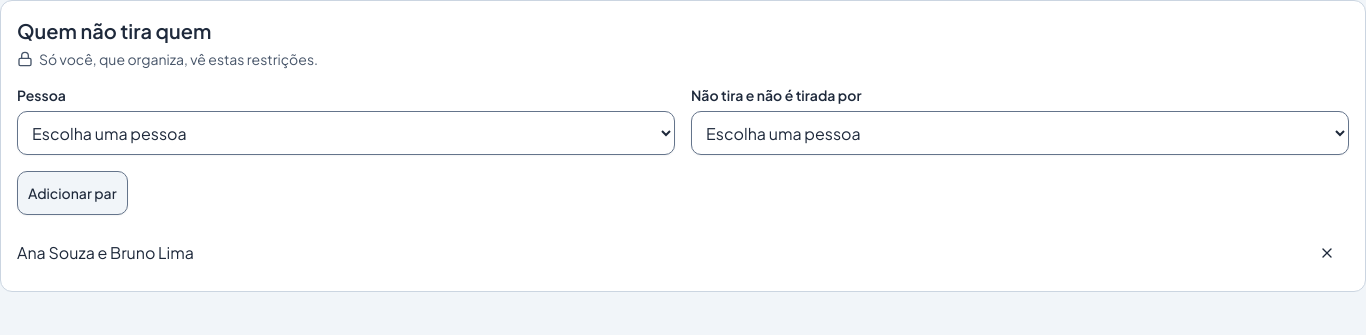
Test case: ExclusionEditor › mostra Escolha as duas pessoas do par. sem enviar
The image size is (1366, 335).
Select "Ana Souza" in the dropdown labelled "Pessoa" at {"x": 346, "y": 133}, box [17,111,675,155]
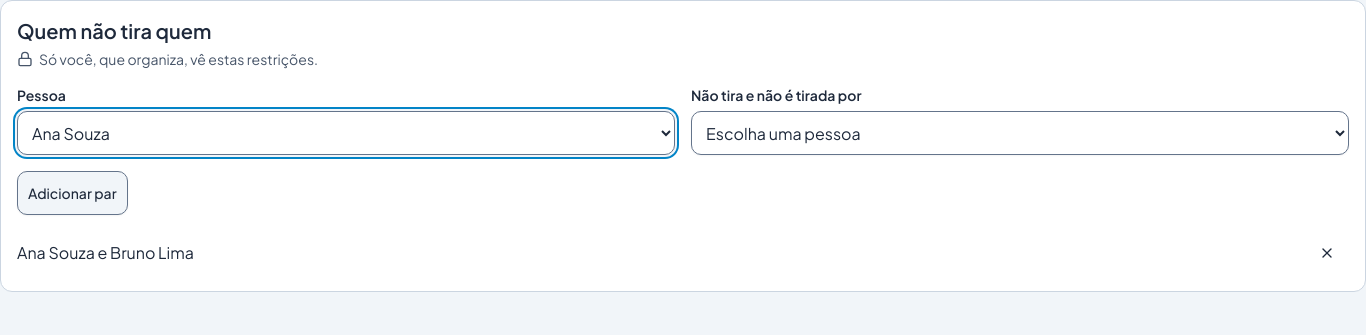
Click the button "Adicionar par" at {"x": 72, "y": 193}, box [17,171,128,215]
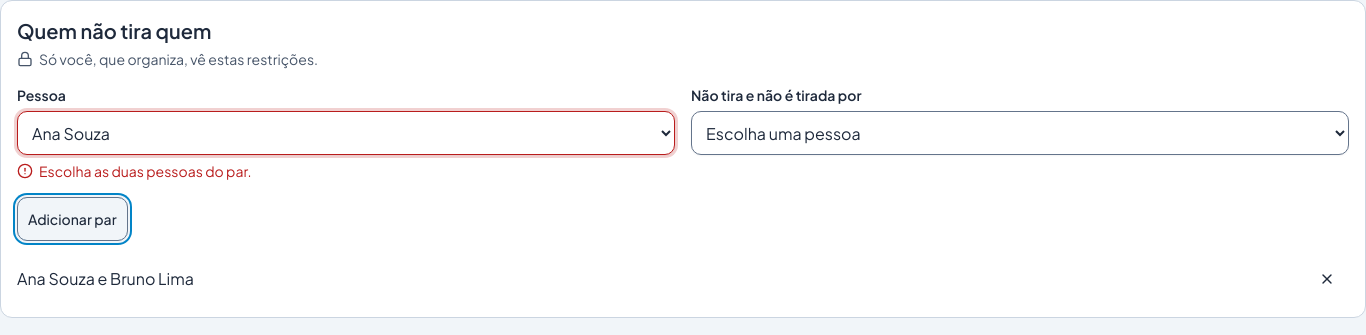
Result: the text "Escolha as duas pessoas do par." is shown at [17,162,252,180]
